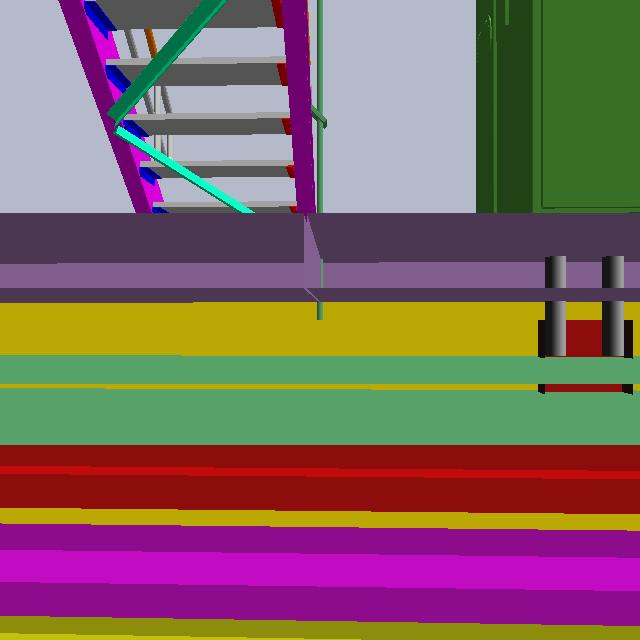Poste: (314, 1, 327, 322)
